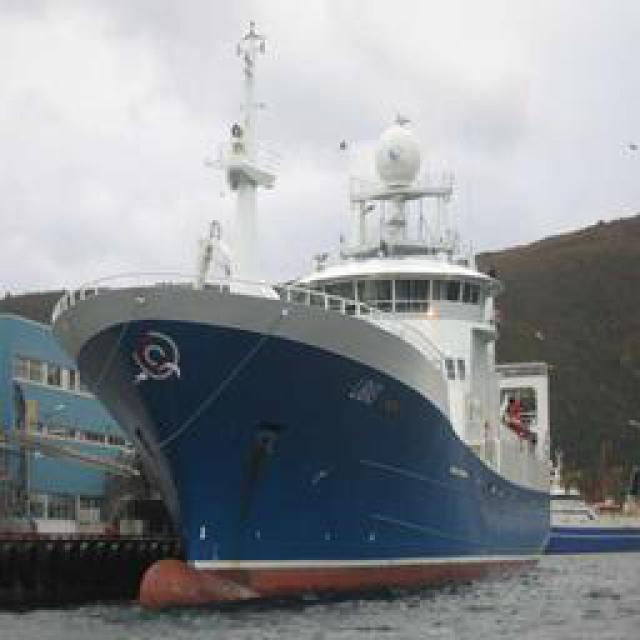Ship: (25, 206, 595, 594)
